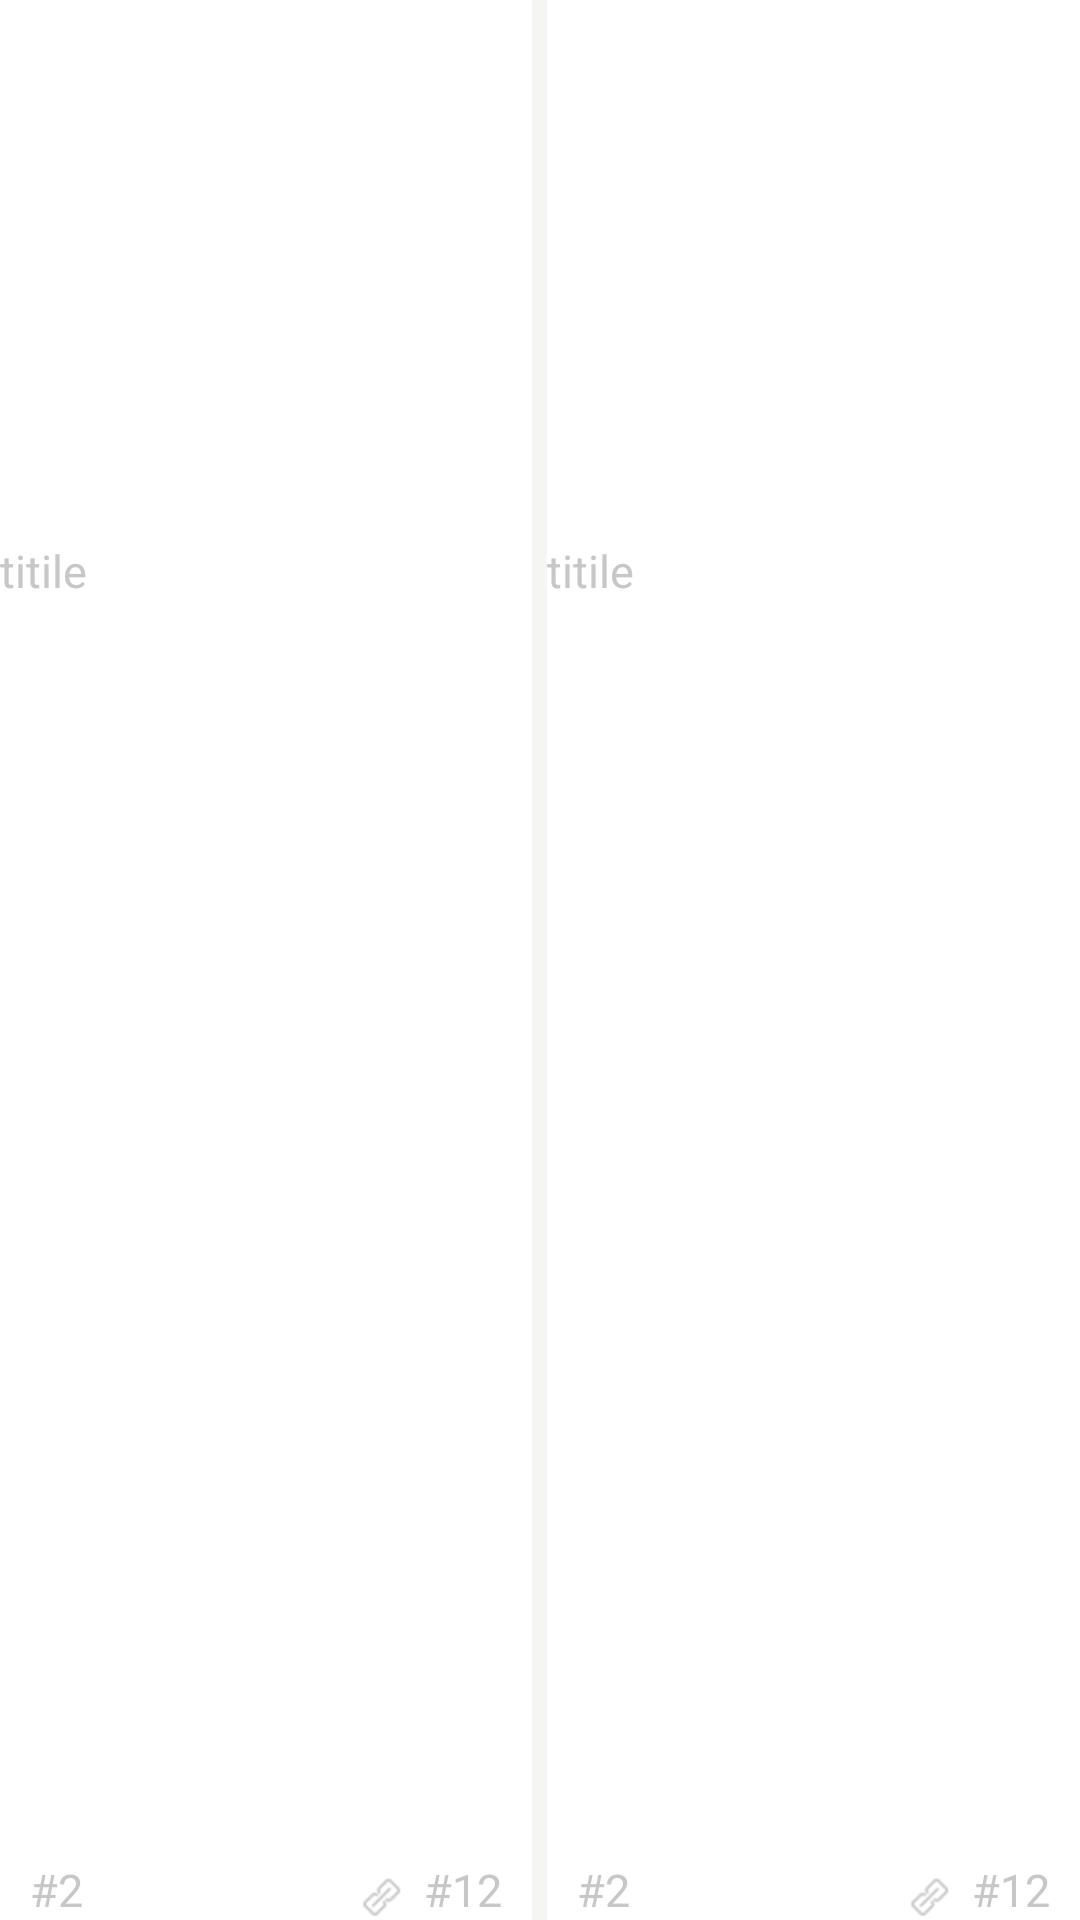

Locate icon controls on the screen. Image size 1080 x 1920, boxes as (x1, y1, x2, y2).
visit: (363, 1879, 400, 1916), (911, 1879, 948, 1916)
